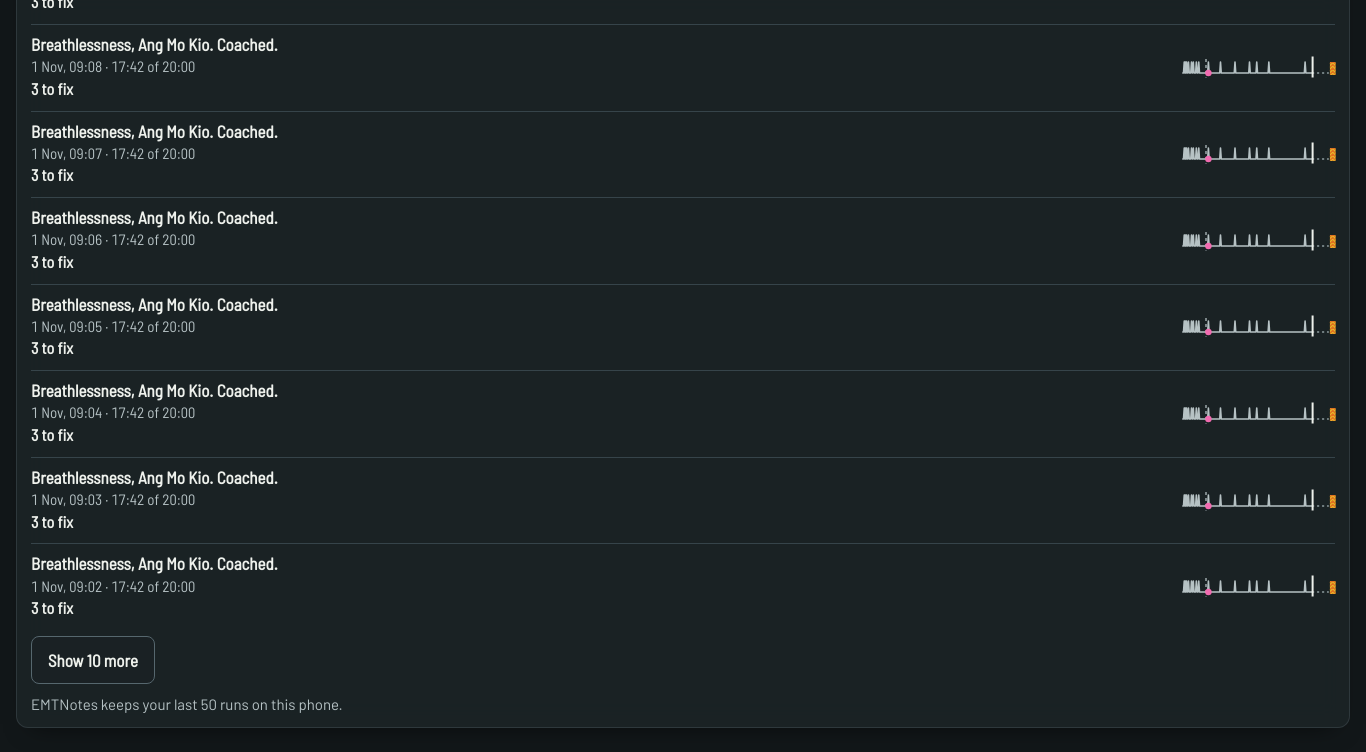
Run history › shows 10, then Show 10 more shows the rest, moves focus to the first new row, and goes
This screenshot has width=1366, height=752.
(page scrolled)
Click the button "Show 10 more" at (93, 660), box [31,636,155,684]
(page scrolled)
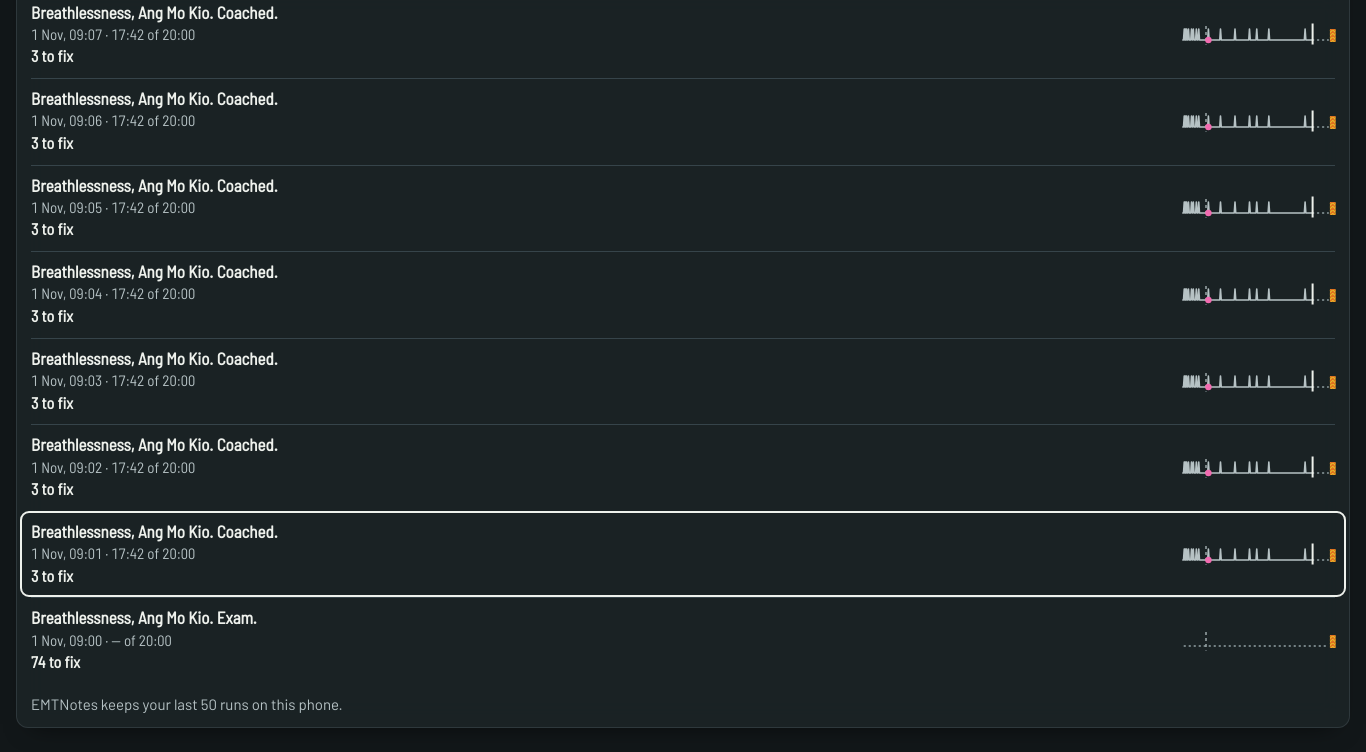
Check: the link with aria-label "Breathlessness, Ang Mo Kio. Exam. 1 Nov, 09:00 · — of 20:00." shows "Breathlessness, Ang Mo Kio. Exam.", box [20,597,1346,684]
Check: the link with aria-label "Breathlessness, Ang Mo Kio. Exam. 1 Nov, 09:00 · — of 20:00." shows "— of 20:00", box [20,597,1346,684]
Check: the button "Show 10 more" is gone
